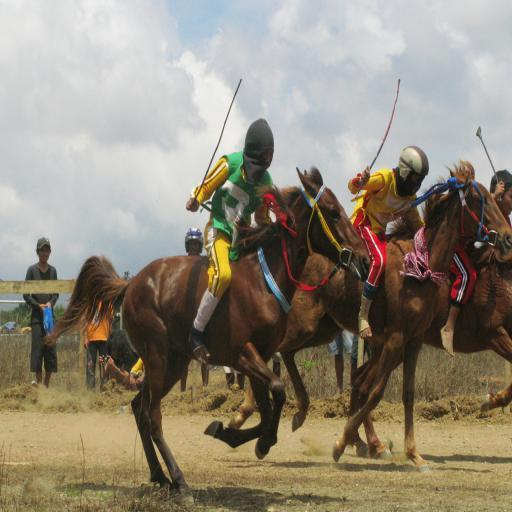horse: (42, 166, 370, 506), (228, 160, 511, 473)
